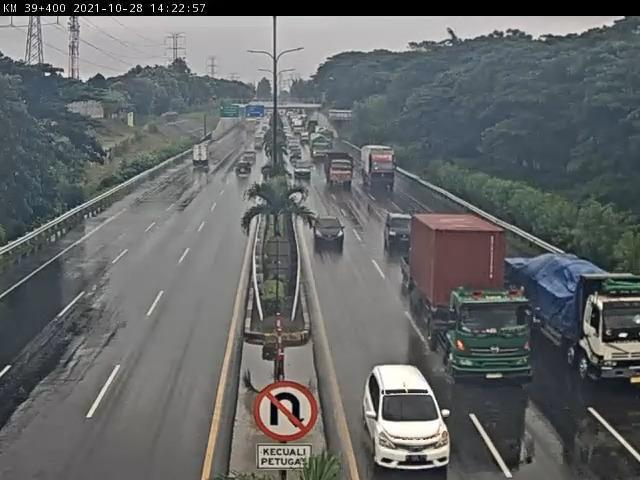truck: (404, 206, 536, 382), (512, 255, 640, 378), (362, 146, 398, 185), (325, 149, 358, 190)
